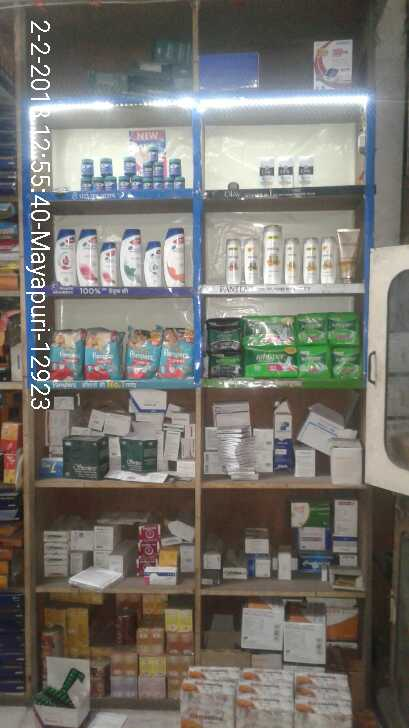vicks: (81, 141, 186, 196)
